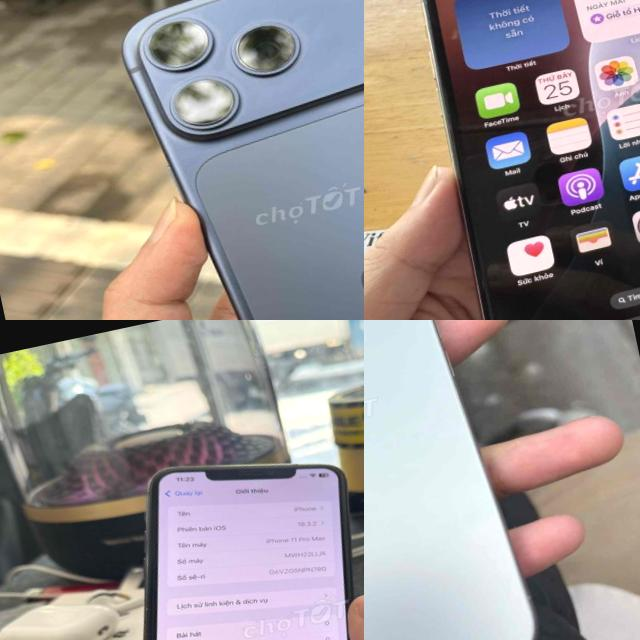gen_11: (404, 0, 640, 320), (143, 465, 354, 640), (205, 465, 293, 480)
gen_15: (364, 320, 551, 640)
gen_17: (102, 0, 364, 320)
